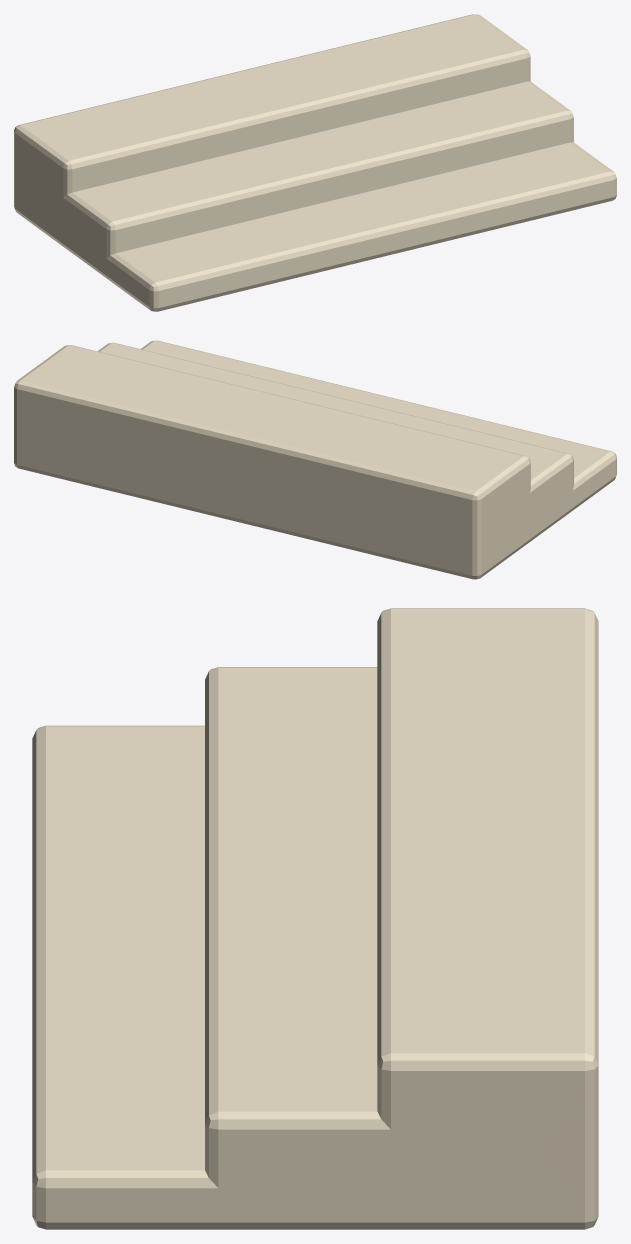
Rendered from entry-steps.glb.
3 renders of one model, top to bottom at view 1: azimuth 30°, elevation 25°; view 2: azimuth 150°, elevation 25°; view 3: azimuth 270°, elevation 25°, orthographic. The views are drawn at different scales.
Parts seen in each view (by area): view 1: entry_steps_batched; view 2: entry_steps_batched; view 3: entry_steps_batched.
Boxes of the visible parts, x1,y1,x2,y2 form: entry_steps_batched: (14, 14, 616, 311); entry_steps_batched: (14, 340, 616, 579); entry_steps_batched: (32, 608, 598, 1229).
Size of the model in its own units: 2 by 0.36 by 1.05.
